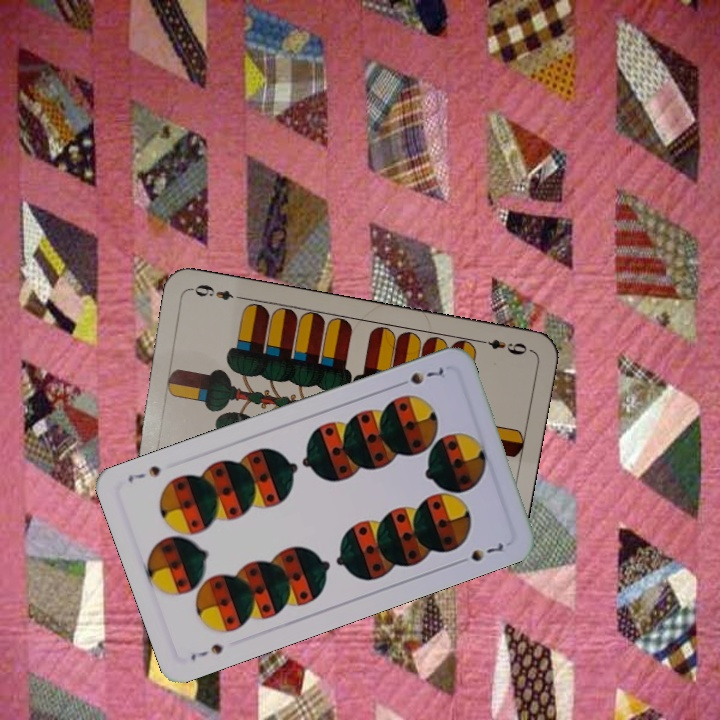E9: (474, 335, 533, 358)
S7: (392, 363, 446, 390), (186, 639, 227, 664)
